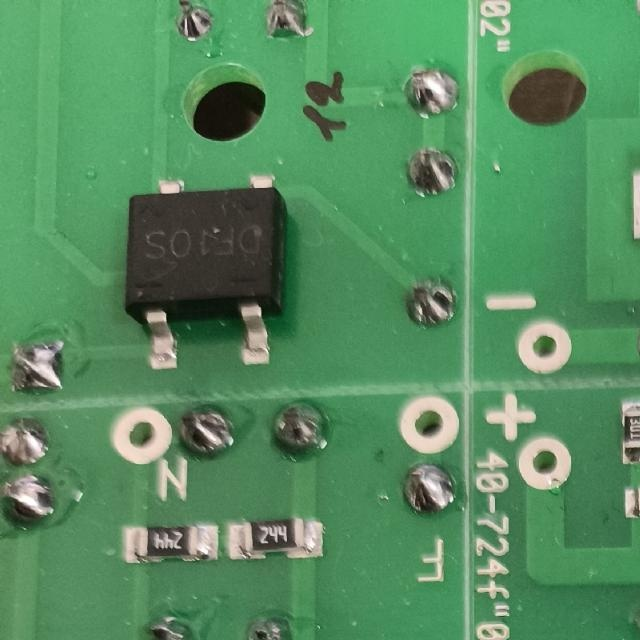chip-resistor: (225, 518, 329, 561), (120, 522, 222, 562), (619, 397, 640, 466)
ic: (124, 173, 292, 371)
